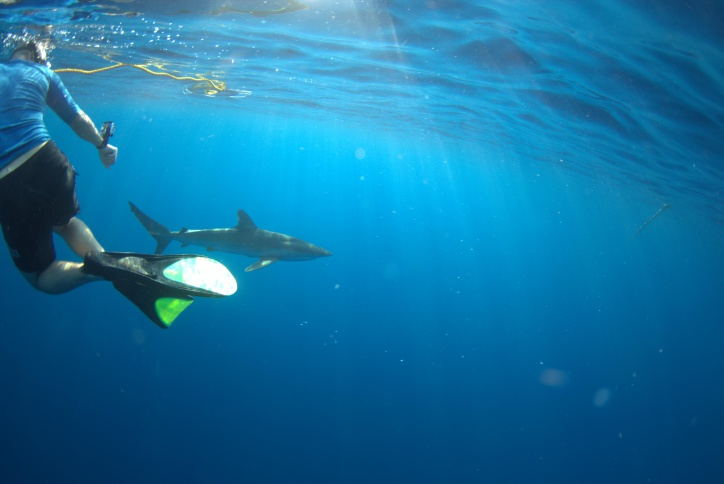Sedoso: (115, 189, 358, 278)
